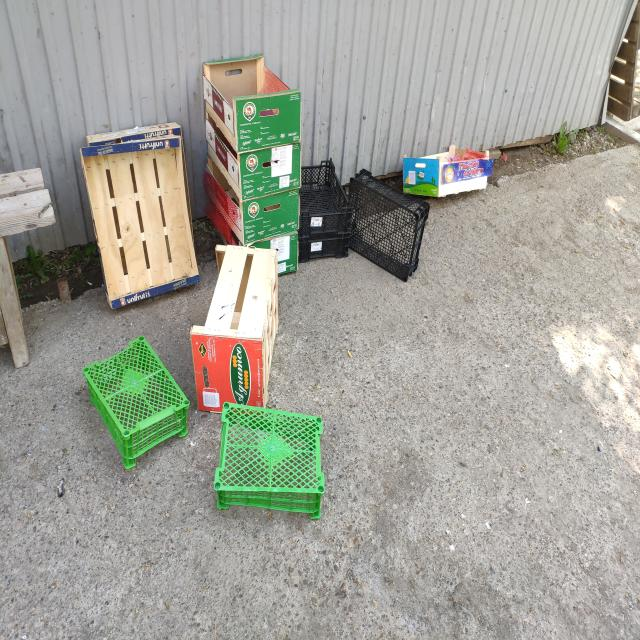entulho: (200, 59, 302, 275), (81, 130, 200, 306), (197, 243, 286, 410), (84, 338, 192, 464), (224, 406, 330, 506), (352, 168, 428, 285), (298, 163, 356, 260), (402, 146, 493, 198)
